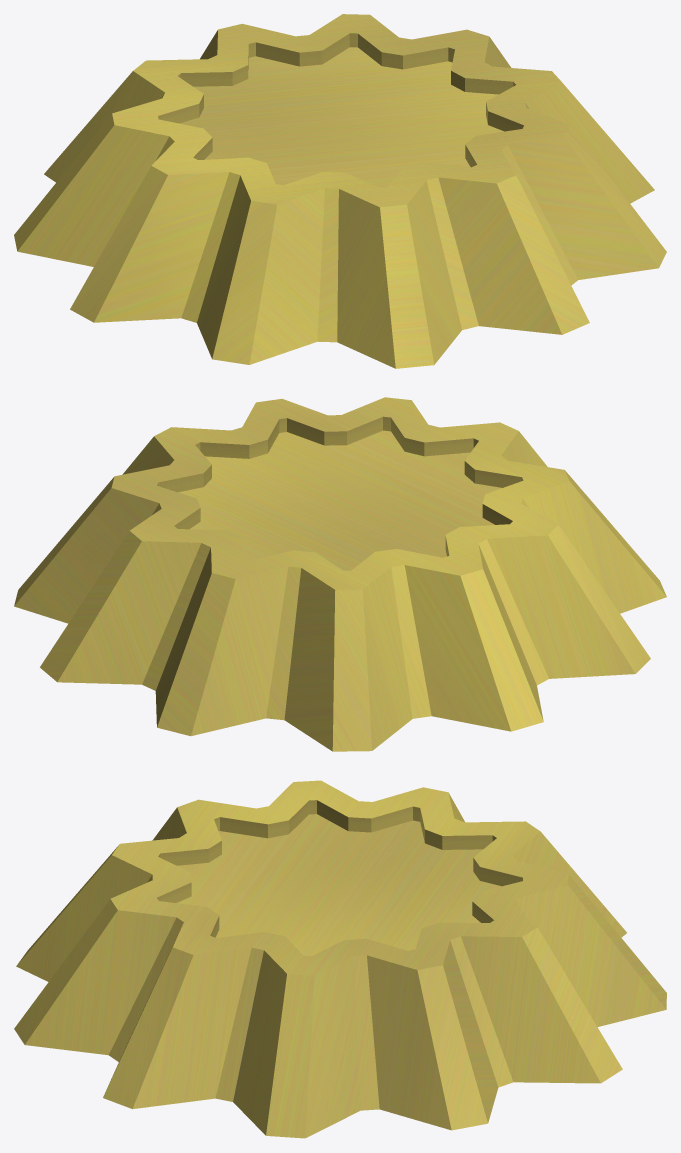
Rendered from CogFacetBevel011.fbx.
3 views of the same model, one above another, from view 1: azimuth 30°, elevation 25°; view 2: azimuth 150°, elevation 25°; view 3: azimuth 270°, elevation 25° (orthographic).
Visible parts, largest first — view 1: CogFacetBevel011; view 2: CogFacetBevel011; view 3: CogFacetBevel011.
Part boxes in pixels (left/top/right/bottom): CogFacetBevel011: left=14, top=14, right=666, bottom=368; CogFacetBevel011: left=14, top=397, right=666, bottom=751; CogFacetBevel011: left=14, top=780, right=666, bottom=1138.
Bounding box in the file's own units: 107 × 21.75 × 106.
